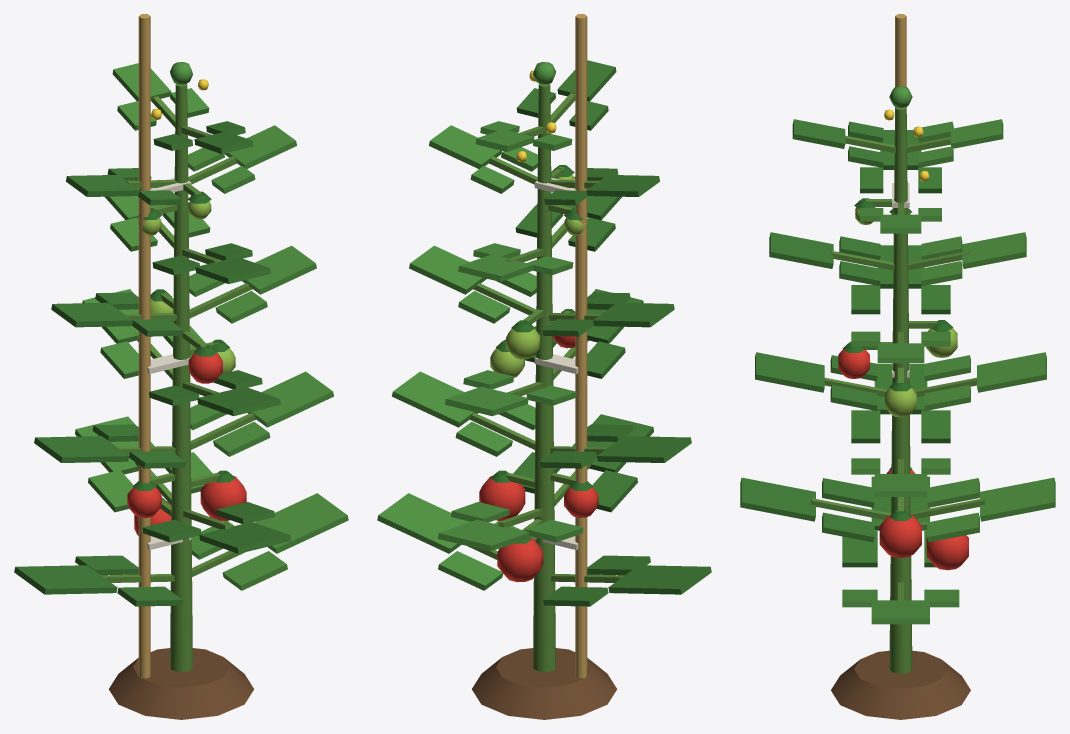
File: tomato-plant.glb
3 renders of one model, left to right at view 1: azimuth 30°, elevation 25°; view 2: azimuth 150°, elevation 25°; view 3: azimuth 270°, elevation 25°, orthographic. The views are drawn at different scales.
Parts seen in each view (by area): view 1: 茎, 支柱, 土, 葉1(右)_先端の小葉, 葉1(左)_先端の小葉, 葉3(右)_先端の小葉, 葉3(左)_先端の小葉, 葉2(手前)_先端の小葉, 葉5(右)_先端の小葉, 葉5(左)_先端の小葉, 葉4(手前)_先端の小葉, 葉7(右)_先端の小葉 (+34 smaller); view 2: 茎, 支柱, 土, 葉1(右)_先端の小葉, 葉1(左)_先端の小葉, 葉3(右)_先端の小葉, 葉3(左)_先端の小葉, 葉5(右)_先端の小葉, 葉2(奥)_先端の小葉, 葉7(右)_先端の小葉, 葉5(左)_先端の小葉, 実2 (+36 smaller); view 3: 土, 茎, 葉2(手前)_先端の小葉, 葉2(奥)_先端の小葉, 葉4(奥)_先端の小葉, 葉4(手前)_先端の小葉, 葉6(手前)_先端の小葉, 葉6(奥)_先端の小葉, 実1, 葉1(右)_先端の小葉, 葉3(右)_先端の小葉, 実2 (+37 smaller).
Part boxes in pixels (bbox=[...]): 茎: bbox=[170, 83, 192, 671]; 支柱: bbox=[138, 14, 150, 678]; 土: bbox=[109, 648, 253, 719]; 葉1(右)_先端の小葉: bbox=[254, 493, 348, 553]; 葉1(左)_先端の小葉: bbox=[14, 565, 117, 594]; 葉3(右)_先端の小葉: bbox=[248, 371, 333, 427]; 葉3(左)_先端の小葉: bbox=[34, 436, 129, 462]; 葉2(手前)_先端の小葉: bbox=[199, 522, 290, 553]; 葉5(右)_先端の小葉: bbox=[242, 245, 316, 294]; 葉5(左)_先端の小葉: bbox=[51, 302, 132, 327]; 葉4(手前)_先端の小葉: bbox=[197, 386, 280, 416]; 葉7(右)_先端の小葉: bbox=[224, 125, 296, 168]; 茎: bbox=[533, 83, 555, 671]; 支柱: bbox=[575, 14, 587, 678]; 土: bbox=[472, 648, 616, 719]; 葉1(右)_先端の小葉: bbox=[377, 493, 469, 553]; 葉1(左)_先端の小葉: bbox=[608, 565, 711, 594]; 葉3(右)_先端の小葉: bbox=[392, 371, 477, 427]; 葉3(左)_先端の小葉: bbox=[596, 436, 691, 462]; 葉5(右)_先端の小葉: bbox=[409, 245, 486, 294]; 葉2(奥)_先端の小葉: bbox=[438, 519, 529, 551]; 葉7(右)_先端の小葉: bbox=[429, 125, 501, 168]; 葉5(左)_先端の小葉: bbox=[593, 302, 674, 327]; 実2: bbox=[497, 536, 543, 582]; 土: bbox=[831, 650, 970, 719]; 茎: bbox=[889, 107, 912, 673]; 葉2(手前)_先端の小葉: bbox=[740, 477, 815, 521]; 葉2(奥)_先端の小葉: bbox=[980, 477, 1055, 521]; 葉4(奥)_先端の小葉: bbox=[977, 352, 1046, 392]; 葉4(手前)_先端の小葉: bbox=[755, 352, 824, 392]; 葉6(手前)_先端の小葉: bbox=[769, 232, 833, 268]; 葉6(奥)_先端の小葉: bbox=[962, 232, 1026, 268]; 実1: bbox=[879, 514, 921, 558]; 葉1(右)_先端の小葉: bbox=[871, 600, 929, 624]; 葉3(右)_先端の小葉: bbox=[874, 474, 927, 496]; 実2: bbox=[926, 535, 968, 570].
Size of the model in its own units: 0.579 by 1.24 by 0.5392.
